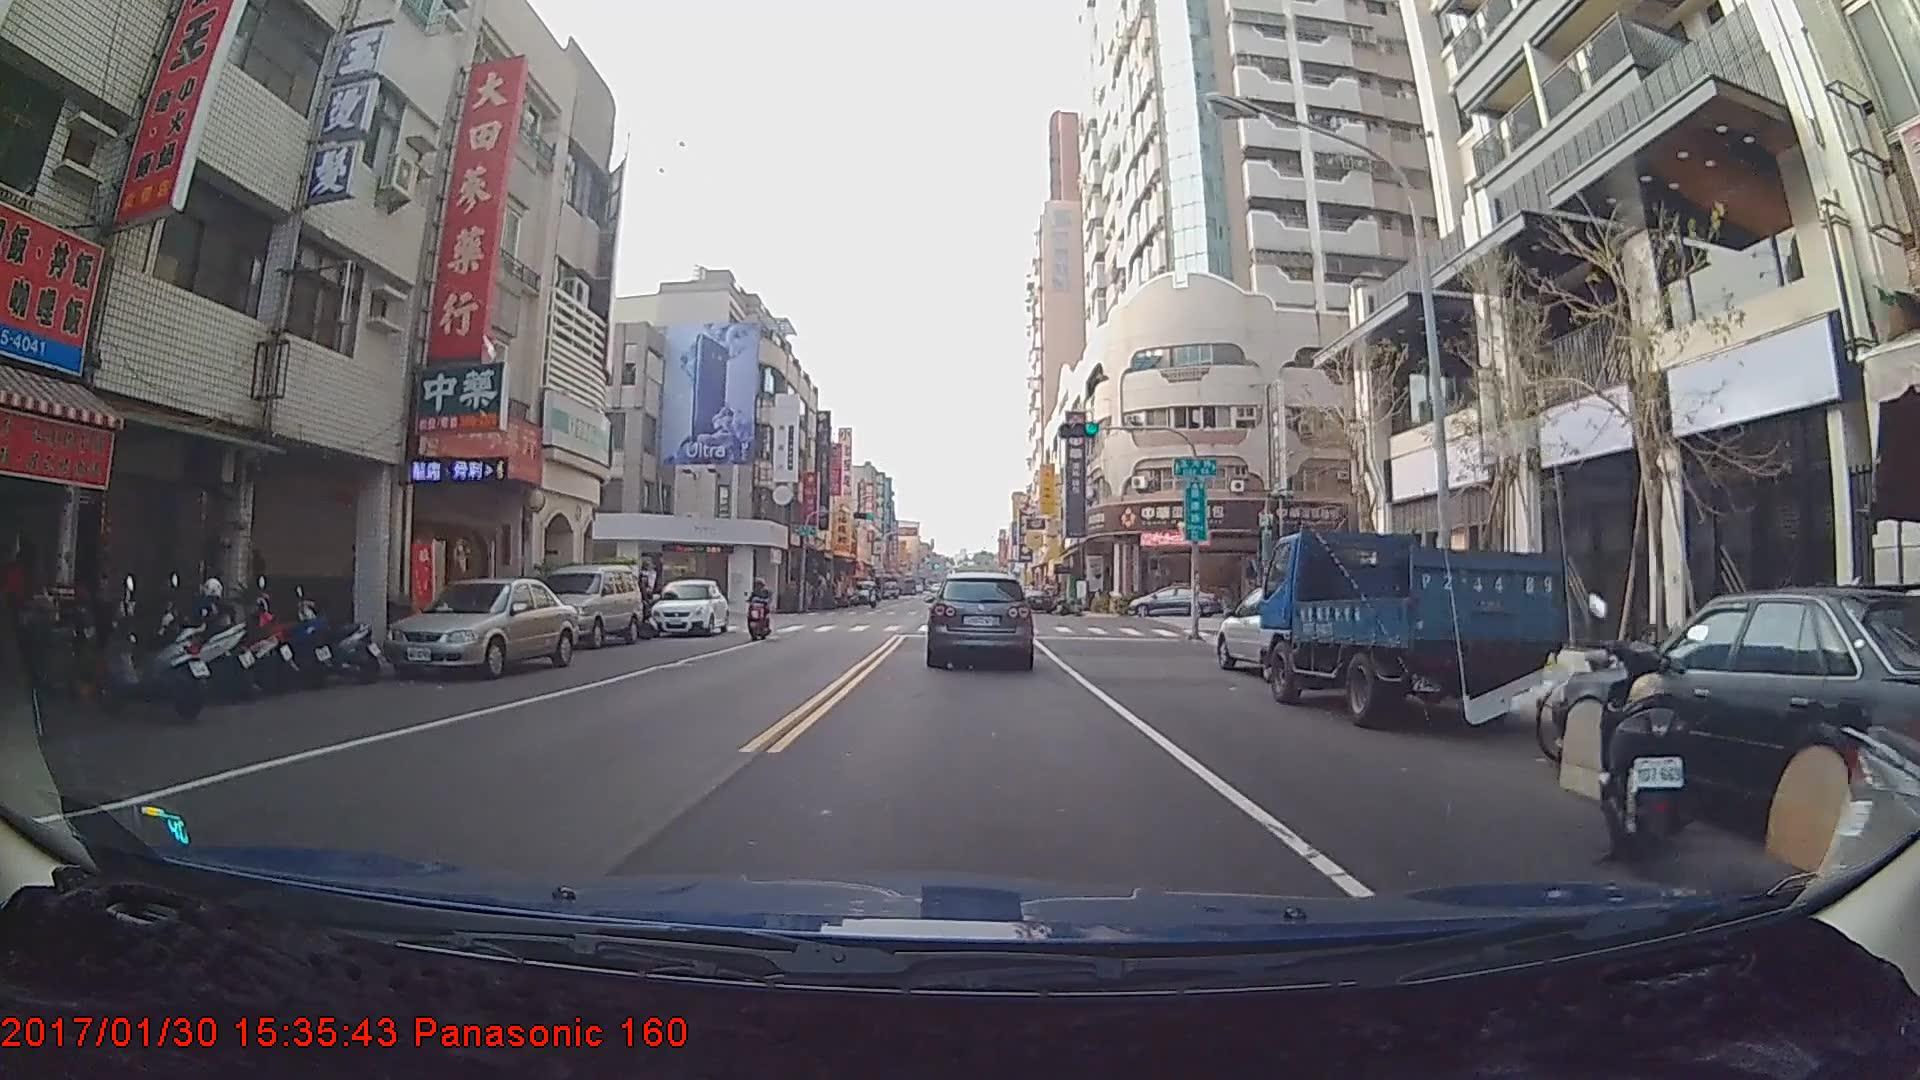rider: (748, 579, 777, 643)
vehicle: (1258, 533, 1563, 728), (377, 574, 579, 678), (1214, 581, 1354, 682), (523, 560, 643, 651), (927, 572, 1033, 668), (651, 577, 730, 636), (1126, 582, 1214, 616), (1021, 585, 1053, 611), (853, 577, 877, 603)
